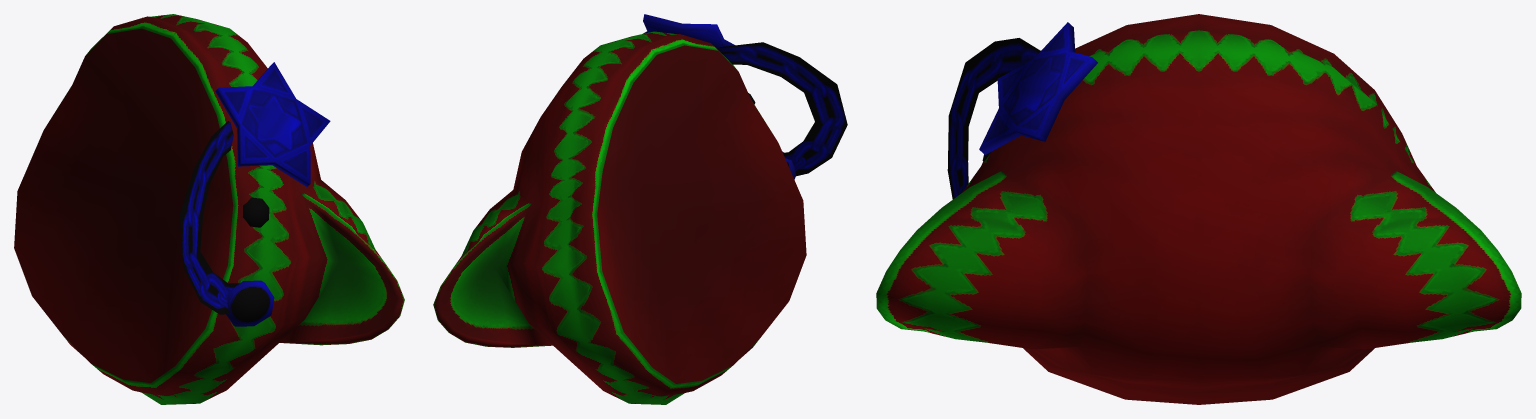
The picture shows the model from 3 angles, left to right: view 1: azimuth 30°, elevation 25°; view 2: azimuth 150°, elevation 25°; view 3: azimuth 270°, elevation 25°; orthographic projection. The views are drawn at different scales.
Visible parts, largest first — view 1: F1148; view 2: F1148; view 3: F1148.
Boxes of the visible parts, x1=… form: F1148: x1=14, y1=14, x2=404, y2=404; F1148: x1=433, y1=14, x2=847, y2=404; F1148: x1=876, y1=14, x2=1521, y2=404.
Bounding box in the file's own units: 0.3058 × 0.4774 × 0.6875.
